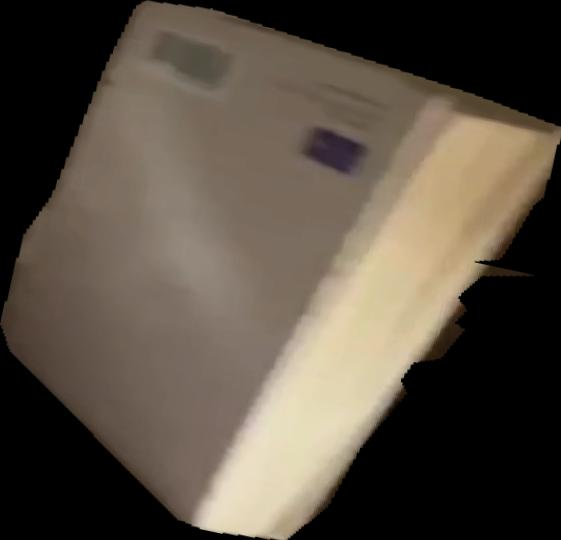backward: (1, 1, 561, 540)
